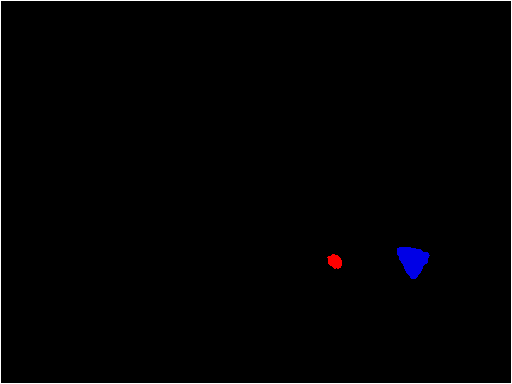chipped: (400, 249, 428, 279)
detached: (326, 253, 341, 269)
